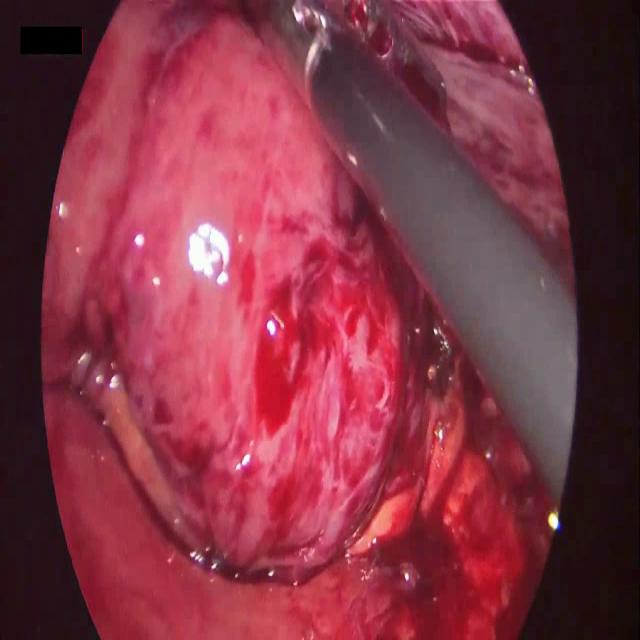surgical-area: (42, 1, 556, 639), (335, 0, 574, 274)
surgical-tool: (244, 0, 579, 516)
